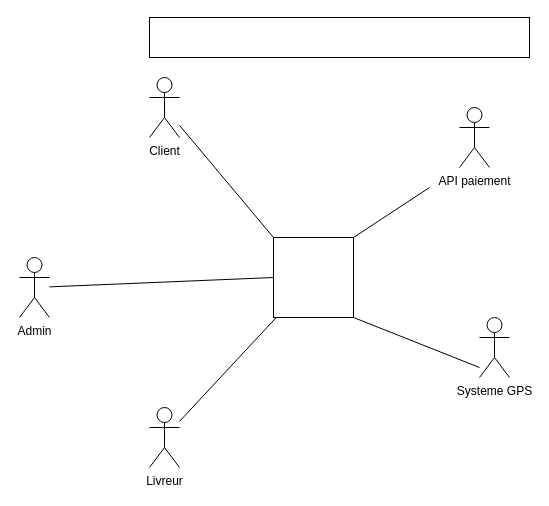
Image size: 549x506. Some labels were removed from this diagram. The shapes that lost their labels are listed below. From the top down, each one's centre as x and y in pixels, then its label:
At pixel 339 37: "DIAGRAMME DE CONTEXTE".
At pixel 313 277: "APP".
